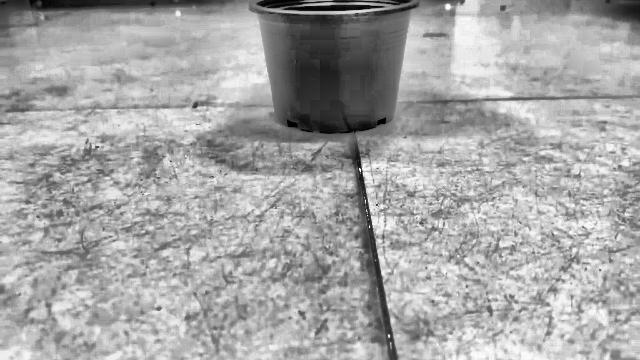pot: (249, 0, 419, 133)
